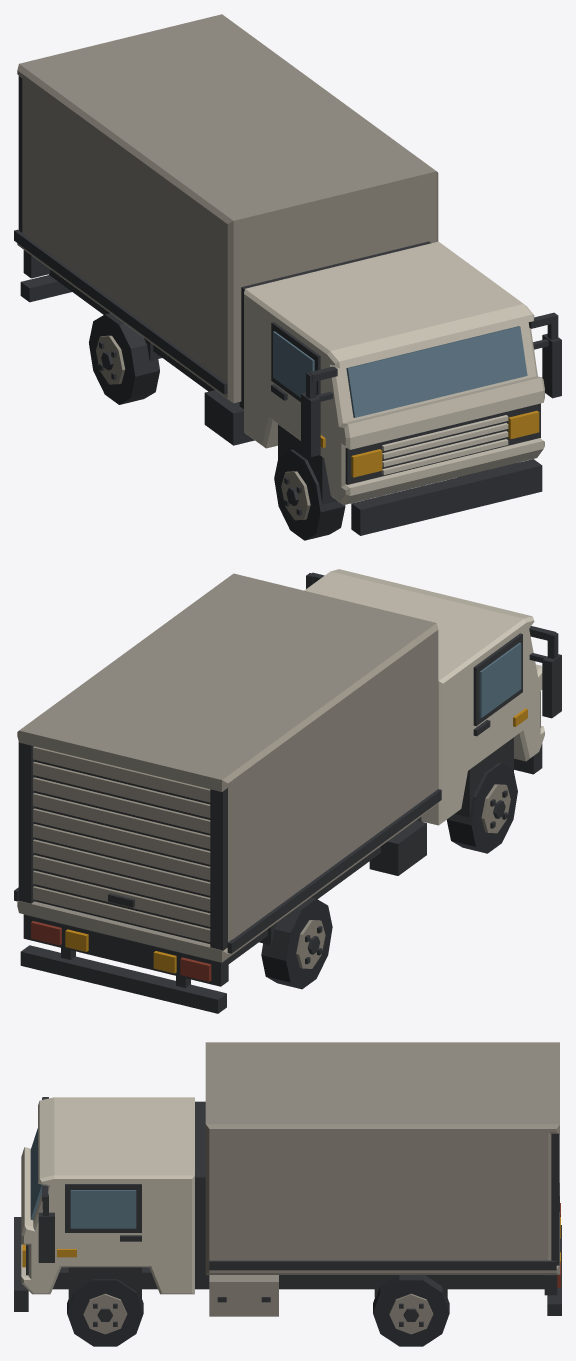
Rendered from truck.glb.
3 views of the same model, one above another, from view 1: azimuth 30°, elevation 25°; view 2: azimuth 150°, elevation 25°; view 3: azimuth 270°, elevation 25° (orthographic). The views are drawn at different scales.
Visible parts, largest first — view 1: delivery-truck, wheel-rr, wheel-fr; view 2: delivery-truck, wheel-rr, wheel-fr; view 3: delivery-truck, wheel-rl, wheel-fl.
Boxes of the visible parts, x1,y1,x2,y2 form: delivery-truck: [14, 14, 561, 535]; wheel-rr: [89, 313, 159, 404]; wheel-fr: [274, 449, 345, 540]; delivery-truck: [14, 569, 561, 1013]; wheel-rr: [261, 897, 332, 989]; wheel-fr: [447, 762, 517, 853]; delivery-truck: [14, 1042, 561, 1316]; wheel-rl: [373, 1275, 449, 1346]; wheel-fl: [67, 1279, 143, 1346].
Bounding box in the file's own units: 2.62 × 2.7 × 6.
